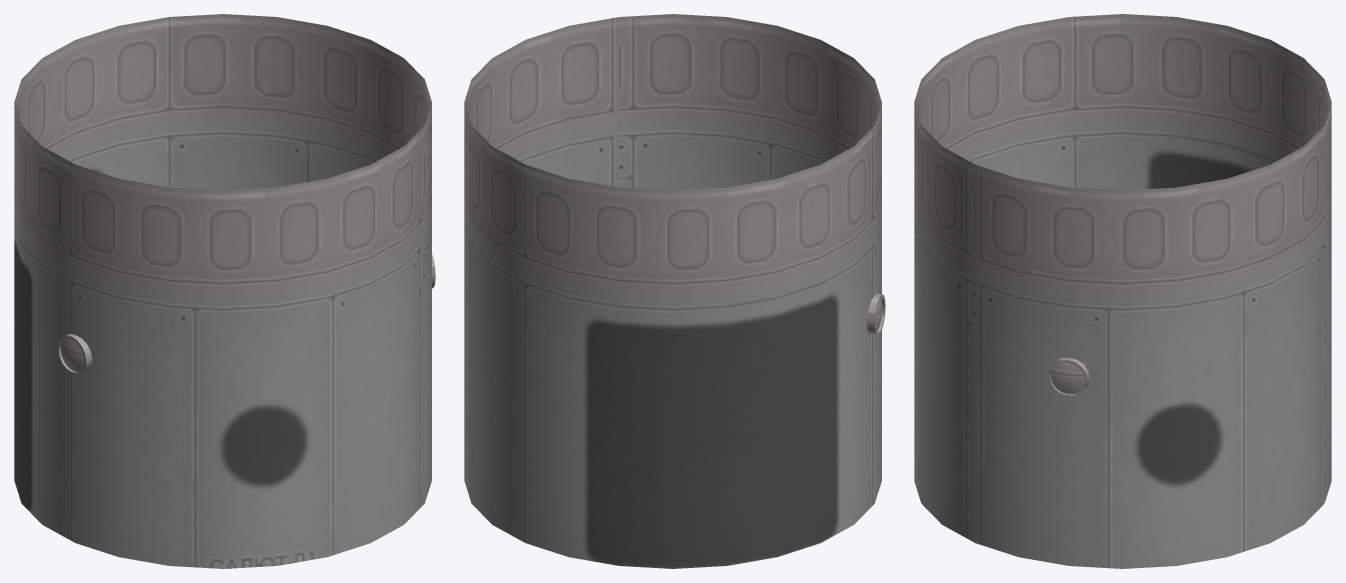
Rendered from vega_crew_s1p5_1.obj.
3 renders of one model, left to right at view 1: azimuth 30°, elevation 25°; view 2: azimuth 150°, elevation 25°; view 3: azimuth 270°, elevation 25°, orthographic.
Visible parts, largest first — view 1: mesh1, windows1; view 2: mesh1; view 3: mesh1, windows1.
Part boxes in pixels (left/top/right/bottom): mesh1: left=14, top=14, right=435, bottom=568; windows1: left=60, top=338, right=84, bottom=371; mesh1: left=464, top=14, right=885, bottom=568; mesh1: left=914, top=14, right=1331, bottom=568; windows1: left=1051, top=362, right=1084, bottom=394.
Bounding box in the file's own units: 1.91 × 1.88 × 1.88.
